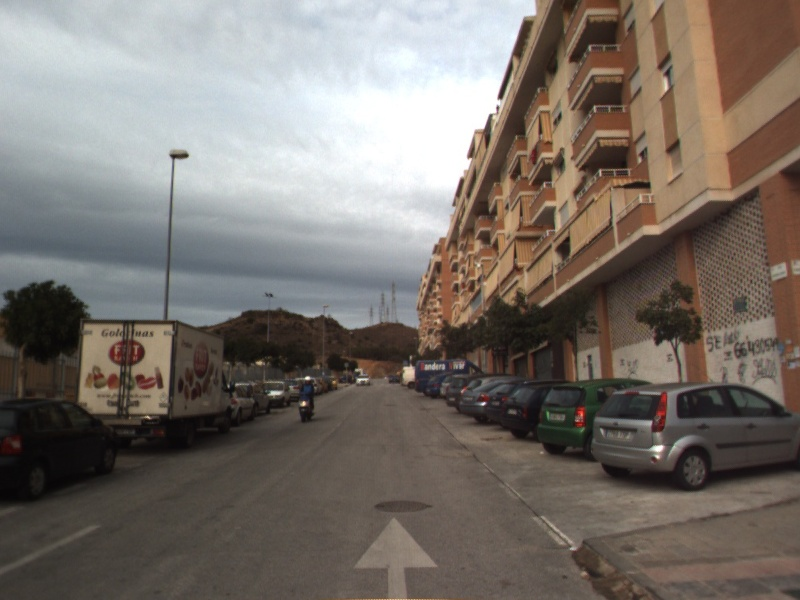STRAIGHT: (351, 515, 440, 600)
